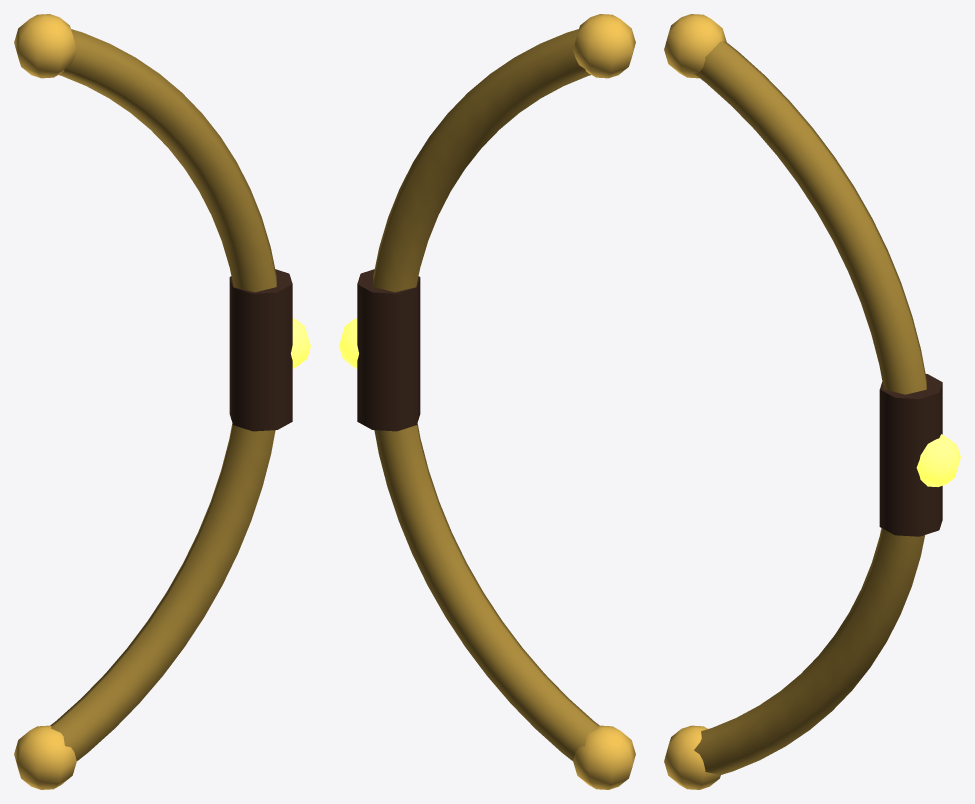
The model's file is bow_f0_4d2dda38.glb.
3 views of the same model, side by side, from view 1: azimuth 30°, elevation 25°; view 2: azimuth 150°, elevation 25°; view 3: azimuth 330°, elevation 25° (orthographic).
Visible parts, largest first — view 1: m0_ow80_, m1_ow80_, m3_ow80_, m2_gm160_; view 2: m0_ow80_, m1_ow80_, m3_ow80_, m2_gm160_; view 3: m0_ow80_, m1_ow80_, m3_ow80_, m2_gm160_.
Part boxes in pixels (x1,y1,x2,y2): m0_ow80_: (50,29,276,760); m1_ow80_: (229,269,292,431); m3_ow80_: (14,14,76,789); m2_gm160_: (291,318,310,368); m0_ow80_: (373,29,599,760); m1_ow80_: (357,269,420,431); m3_ow80_: (573,14,635,789); m2_gm160_: (339,318,358,368); m0_ow80_: (694,41,926,774); m1_ow80_: (879,374,942,536); m3_ow80_: (664,14,726,789); m2_gm160_: (916,434,960,486).
Bounding box in the file's own units: 0.6194 × 1.57 × 0.12.
